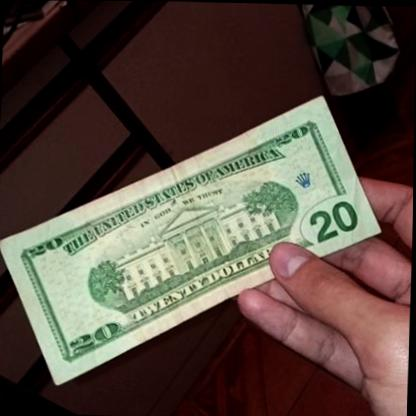twenty-back: (0, 88, 390, 396)
